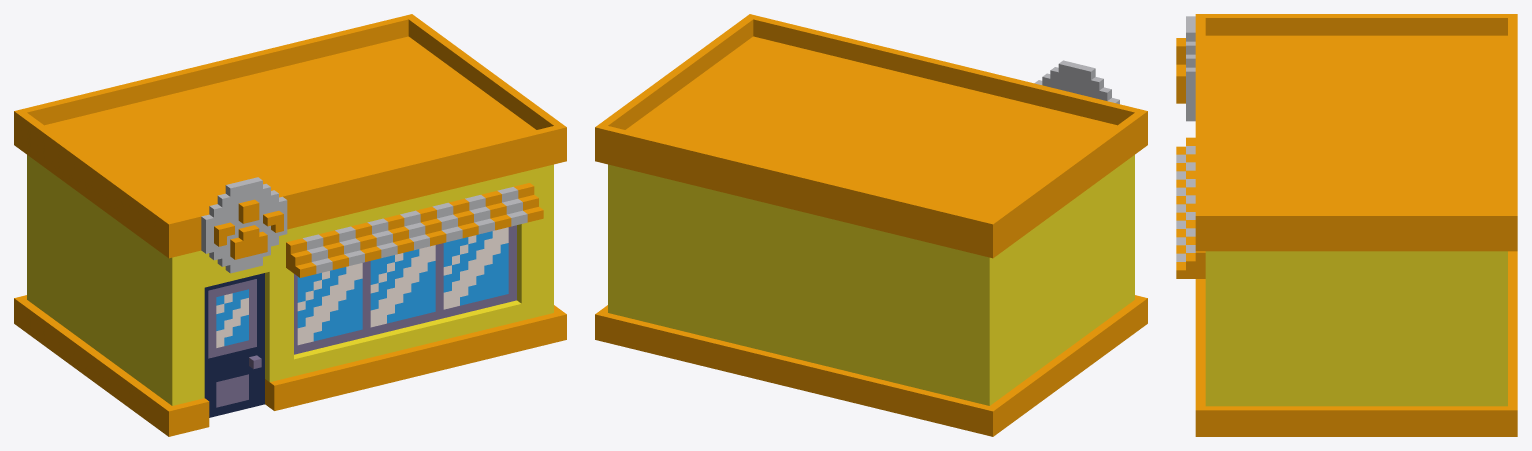
File: petshop_b.obj
3 views of the same model, side by side, from view 1: azimuth 30°, elevation 25°; view 2: azimuth 150°, elevation 25°; view 3: azimuth 270°, elevation 25° (orthographic). The views are drawn at different scales.
Bounding box in the file's own units: 4.9 × 2.8 × 3.5.
1 material, 1 textured.
